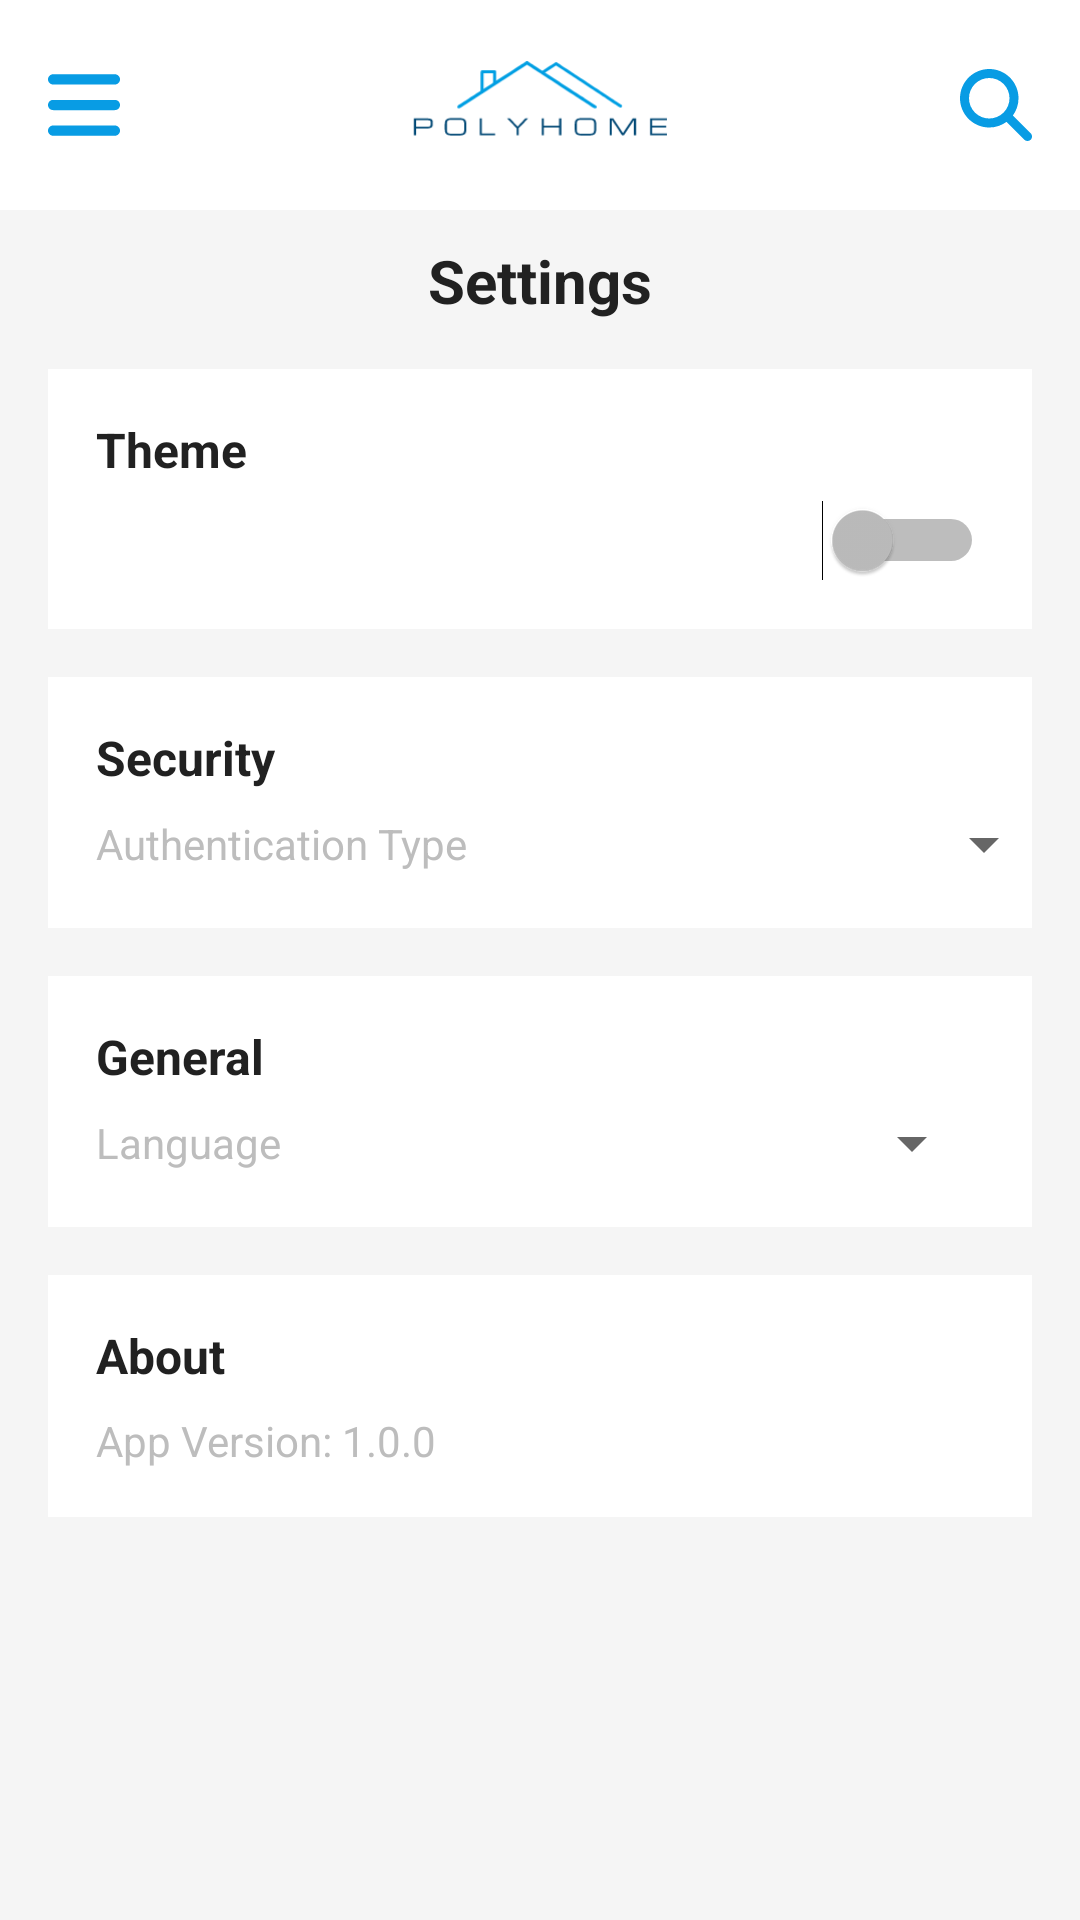

Icons on this 1080×1920 Android screen, each with the point to tap as (x,y):
Menu Button: (84,105)
Search Icon: (996,105)
